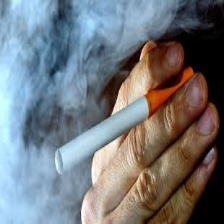smoke: (1, 1, 105, 224)
